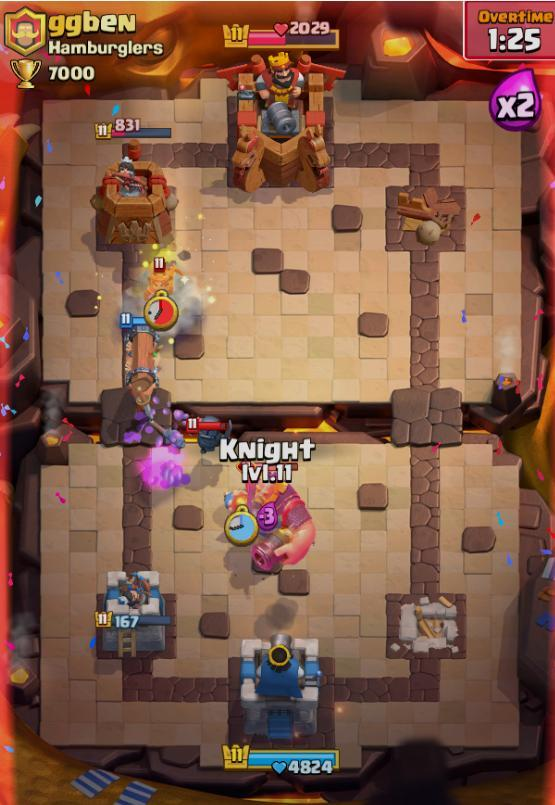EEVRoyalG: (241, 476, 312, 568)
EKingTower: (232, 63, 338, 186)
ELittlePrince: (145, 257, 184, 299)
EMiniPeka: (185, 415, 234, 454)
EnemyPrincessTower: (101, 156, 170, 241)
OBRam: (112, 315, 171, 404)
OwnPrincessTower: (232, 636, 323, 739), (102, 561, 165, 650)
TowerDown: (385, 593, 469, 659), (383, 183, 468, 248)
